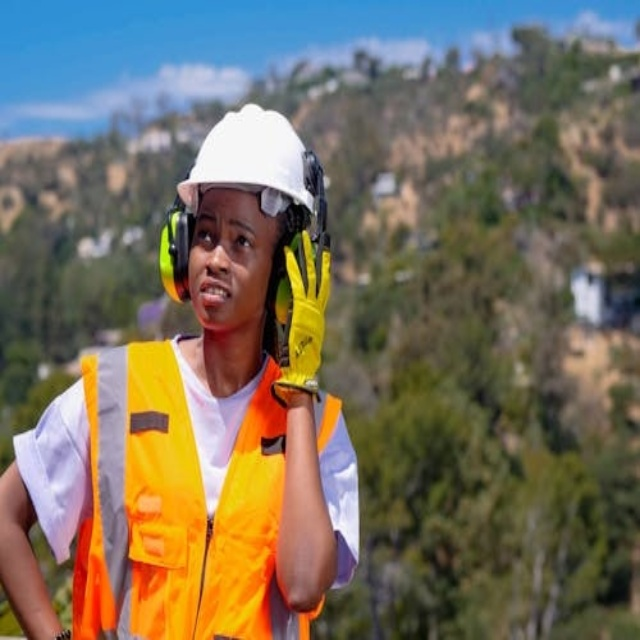Guantes: (271, 229, 330, 403)
Sin_gafas: (189, 207, 268, 258)
Sin_mascara: (188, 270, 251, 323)
